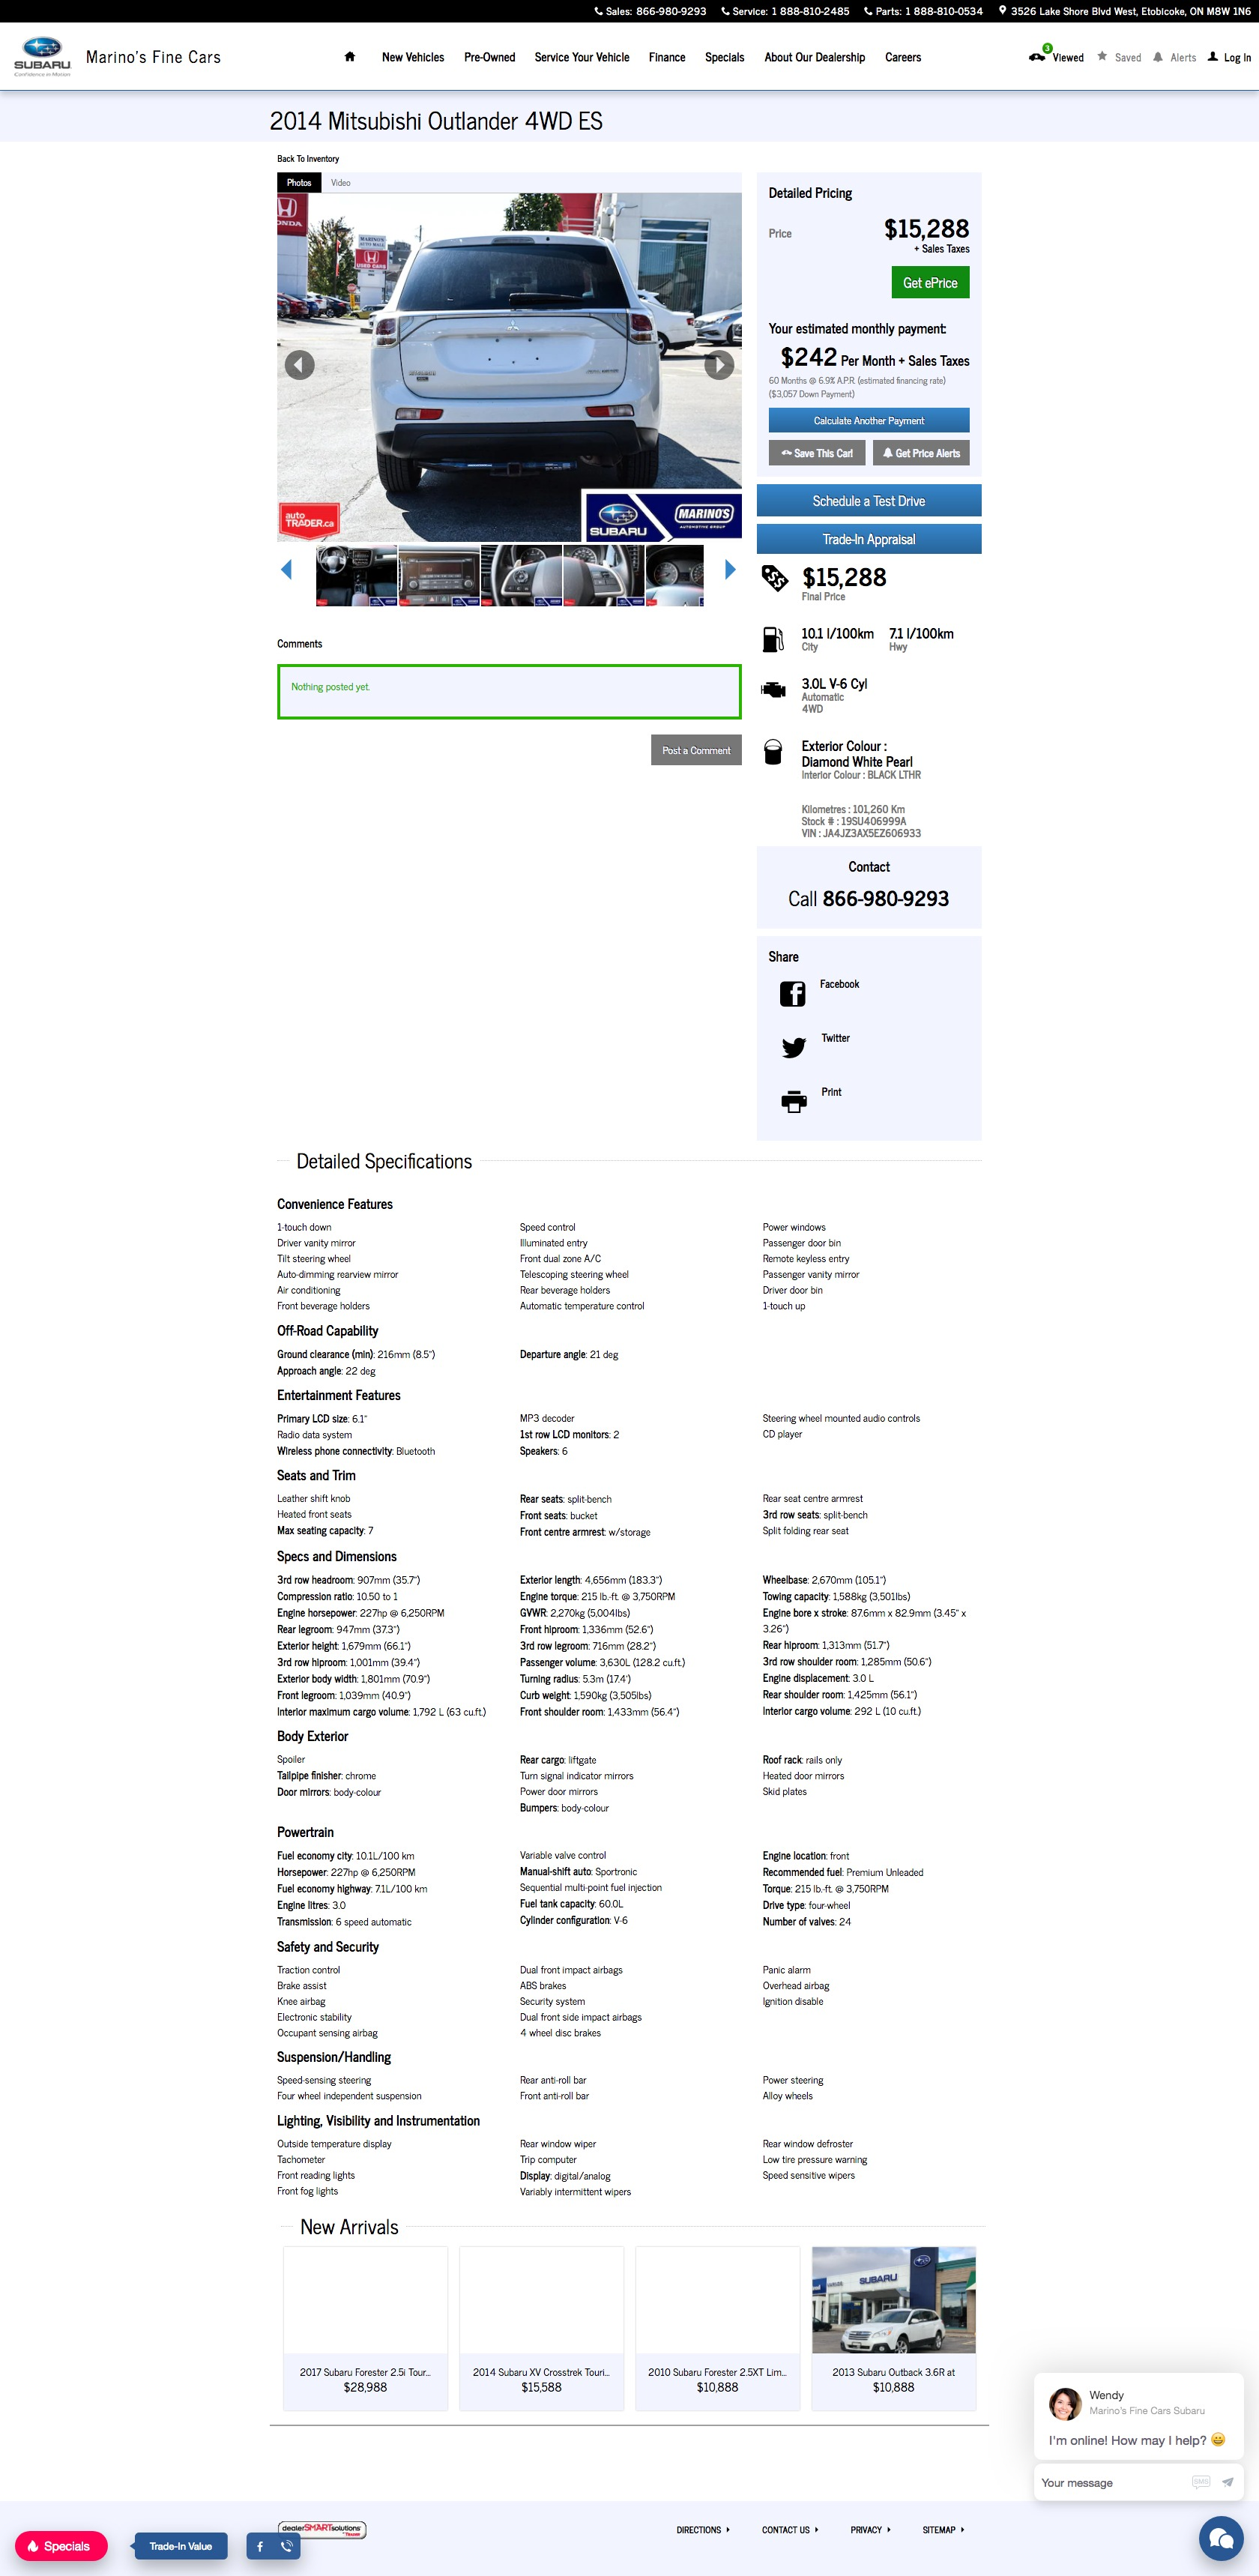car: (723, 559, 738, 582)
